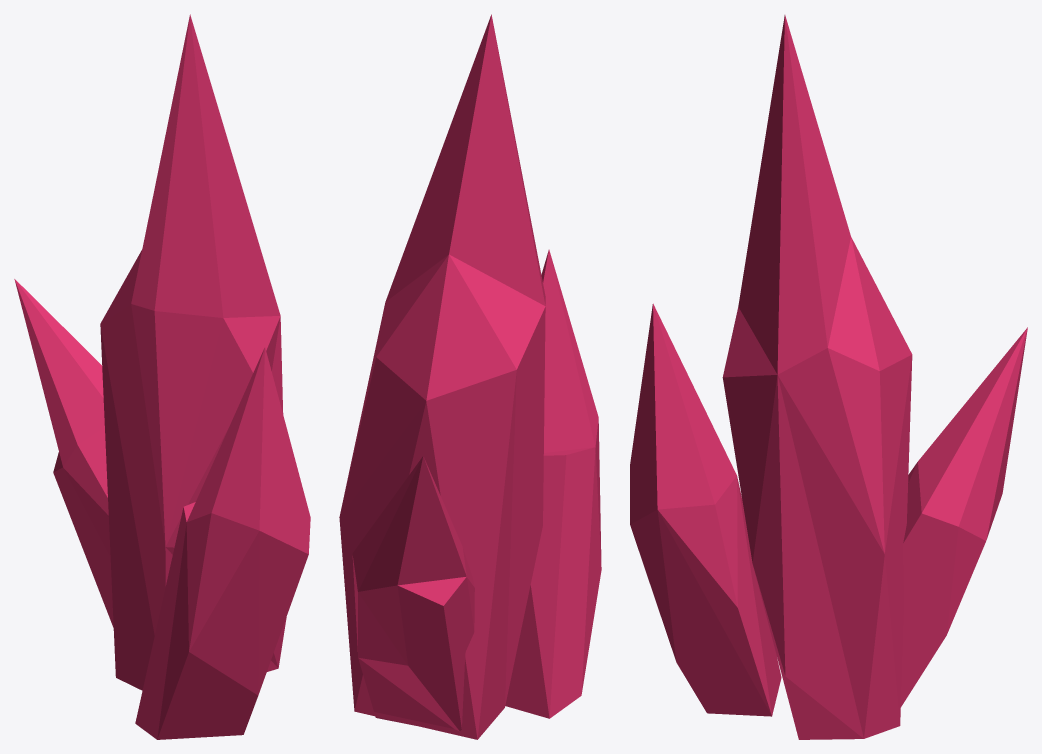
File: Mod_CrystalDestroyable.fbx
3 views of the same model, side by side, from view 1: azimuth 30°, elevation 25°; view 2: azimuth 150°, elevation 25°; view 3: azimuth 270°, elevation 25° (orthographic).
Parts seen in each view (by area): view 1: Crystal_Destroyable; view 2: Crystal_Destroyable; view 3: Crystal_Destroyable.
Part boxes in pixels (x1=…): Crystal_Destroyable: x1=14, y1=14, x2=310, y2=739; Crystal_Destroyable: x1=339, y1=14, x2=601, y2=739; Crystal_Destroyable: x1=630, y1=15, x2=1027, y2=739.
Size of the model in its own units: 0.3162 by 1.28 by 0.6681.
